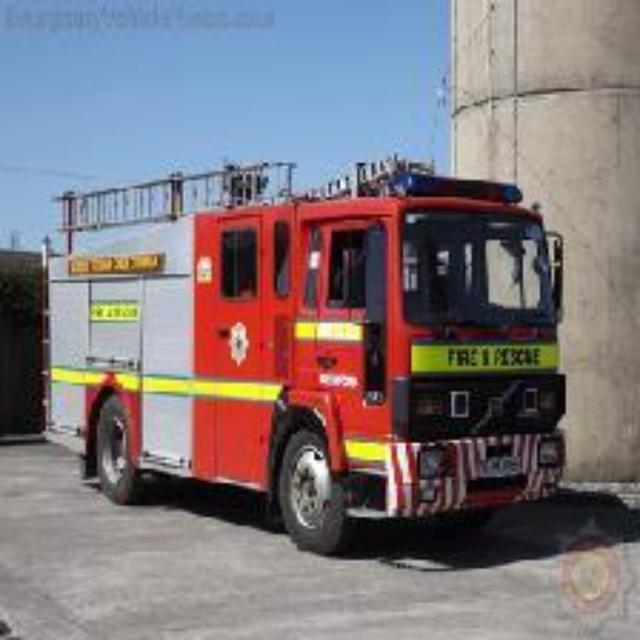emergency: (10, 164, 570, 544)
